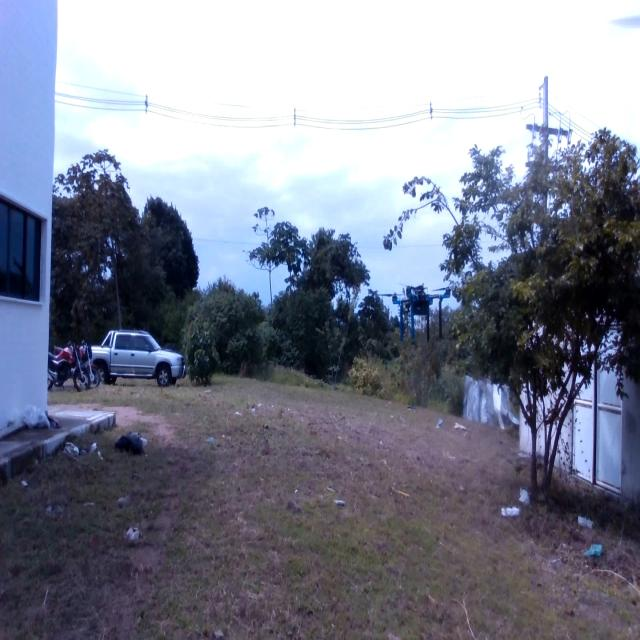-uav-: (379, 264, 459, 362)
